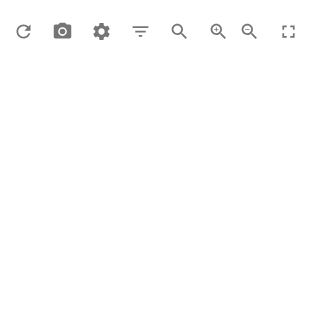
it: LineageTab › Settings Popover › should close settings popover when close button is clicked
The width and height of the screenshot is (328, 318).
Click the 3rd button at (102,32), box [86,16,117,47]
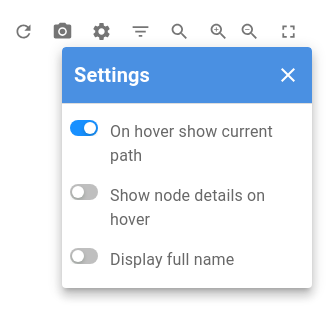
Result: the heading "Settings" is shown at [74,59,150,91]
Result: the button is shown
Click the button at (288,75), box [276,63,300,87]
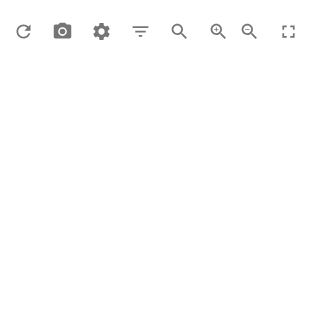
Result: the heading "Settings" is gone
